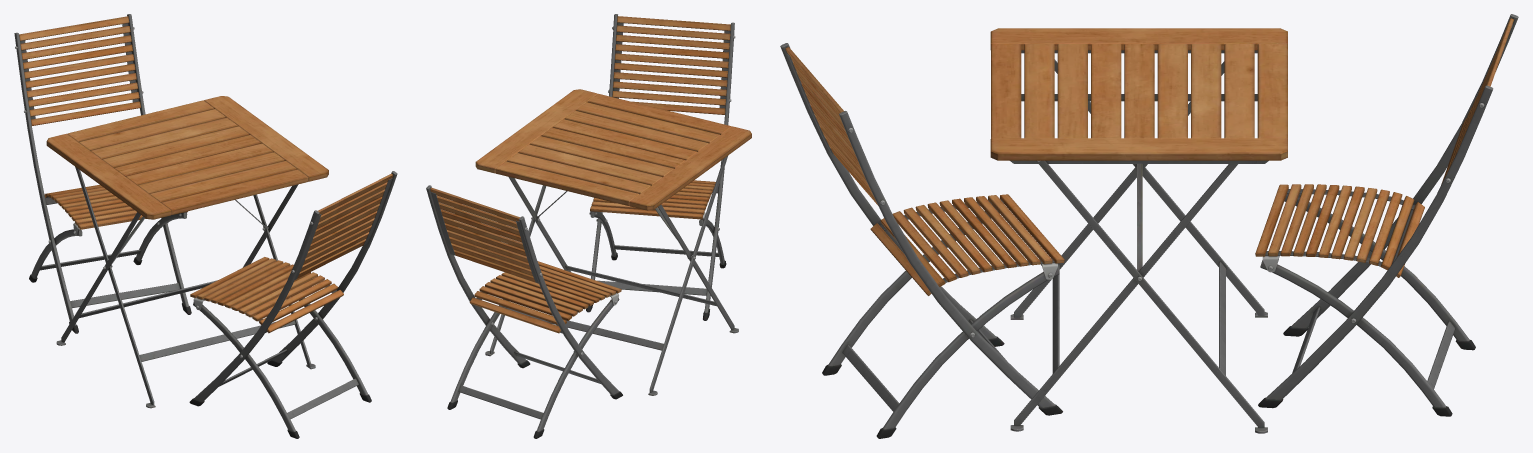
The model's file is outdoor_table_chair_set_01.glb.
The picture shows the model from 3 angles, left to right: view 1: azimuth 30°, elevation 25°; view 2: azimuth 150°, elevation 25°; view 3: azimuth 270°, elevation 25°; orthographic projection. The views are drawn at different scales.
Visible parts, largest first — view 1: outdoor_table_chair_set_01_chair_01, outdoor_table_chair_set_01_table; view 2: outdoor_table_chair_set_01_chair_01, outdoor_table_chair_set_01_table; view 3: outdoor_table_chair_set_01_table, outdoor_table_chair_set_01_chair_01.
Part boxes in pixels (<box>): outdoor_table_chair_set_01_chair_01: <box>14,14,397,438</box>; outdoor_table_chair_set_01_table: <box>46,96,328,408</box>; outdoor_table_chair_set_01_chair_01: <box>426,14,735,438</box>; outdoor_table_chair_set_01_table: <box>475,89,751,395</box>; outdoor_table_chair_set_01_table: <box>990,28,1287,433</box>; outdoor_table_chair_set_01_chair_01: <box>780,14,1518,438</box>.
Bounding box in the file's own units: 0.7417 × 0.8587 × 1.72.
2 materials, 2 textured.
